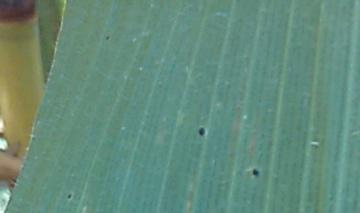tarspot: (249, 166, 262, 179), (196, 125, 206, 137), (64, 191, 73, 200), (104, 34, 111, 41)
